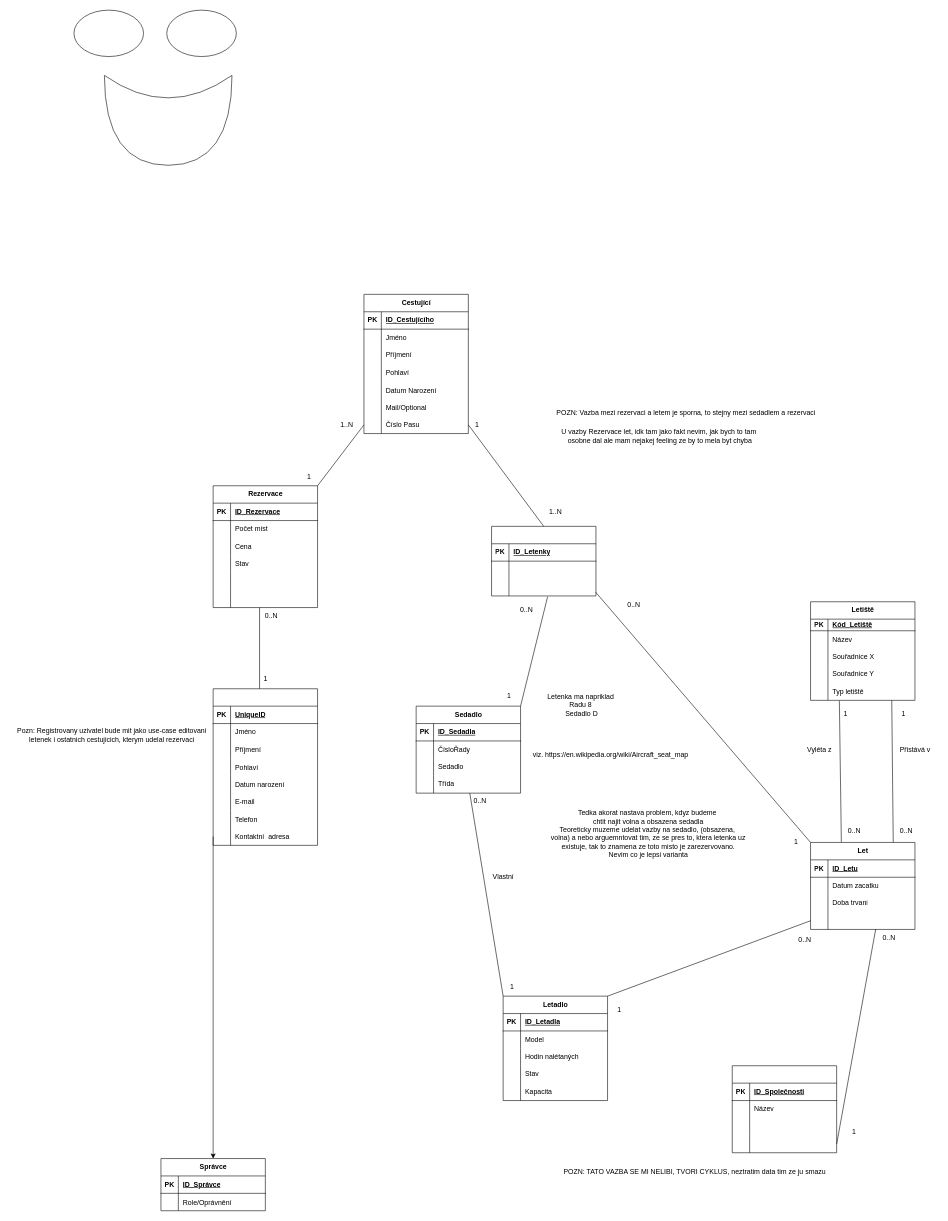
Some shapes in this 948 by 1221 pixel diagram are drawn without their labels. The box of each missing label's shape, as (x1, y1, x2, y2) in pixels:
Letecká Společnost: (732, 1065, 837, 1153)
Letenka: (491, 526, 596, 596)
Registrovaný uživatel: (213, 688, 318, 845)
